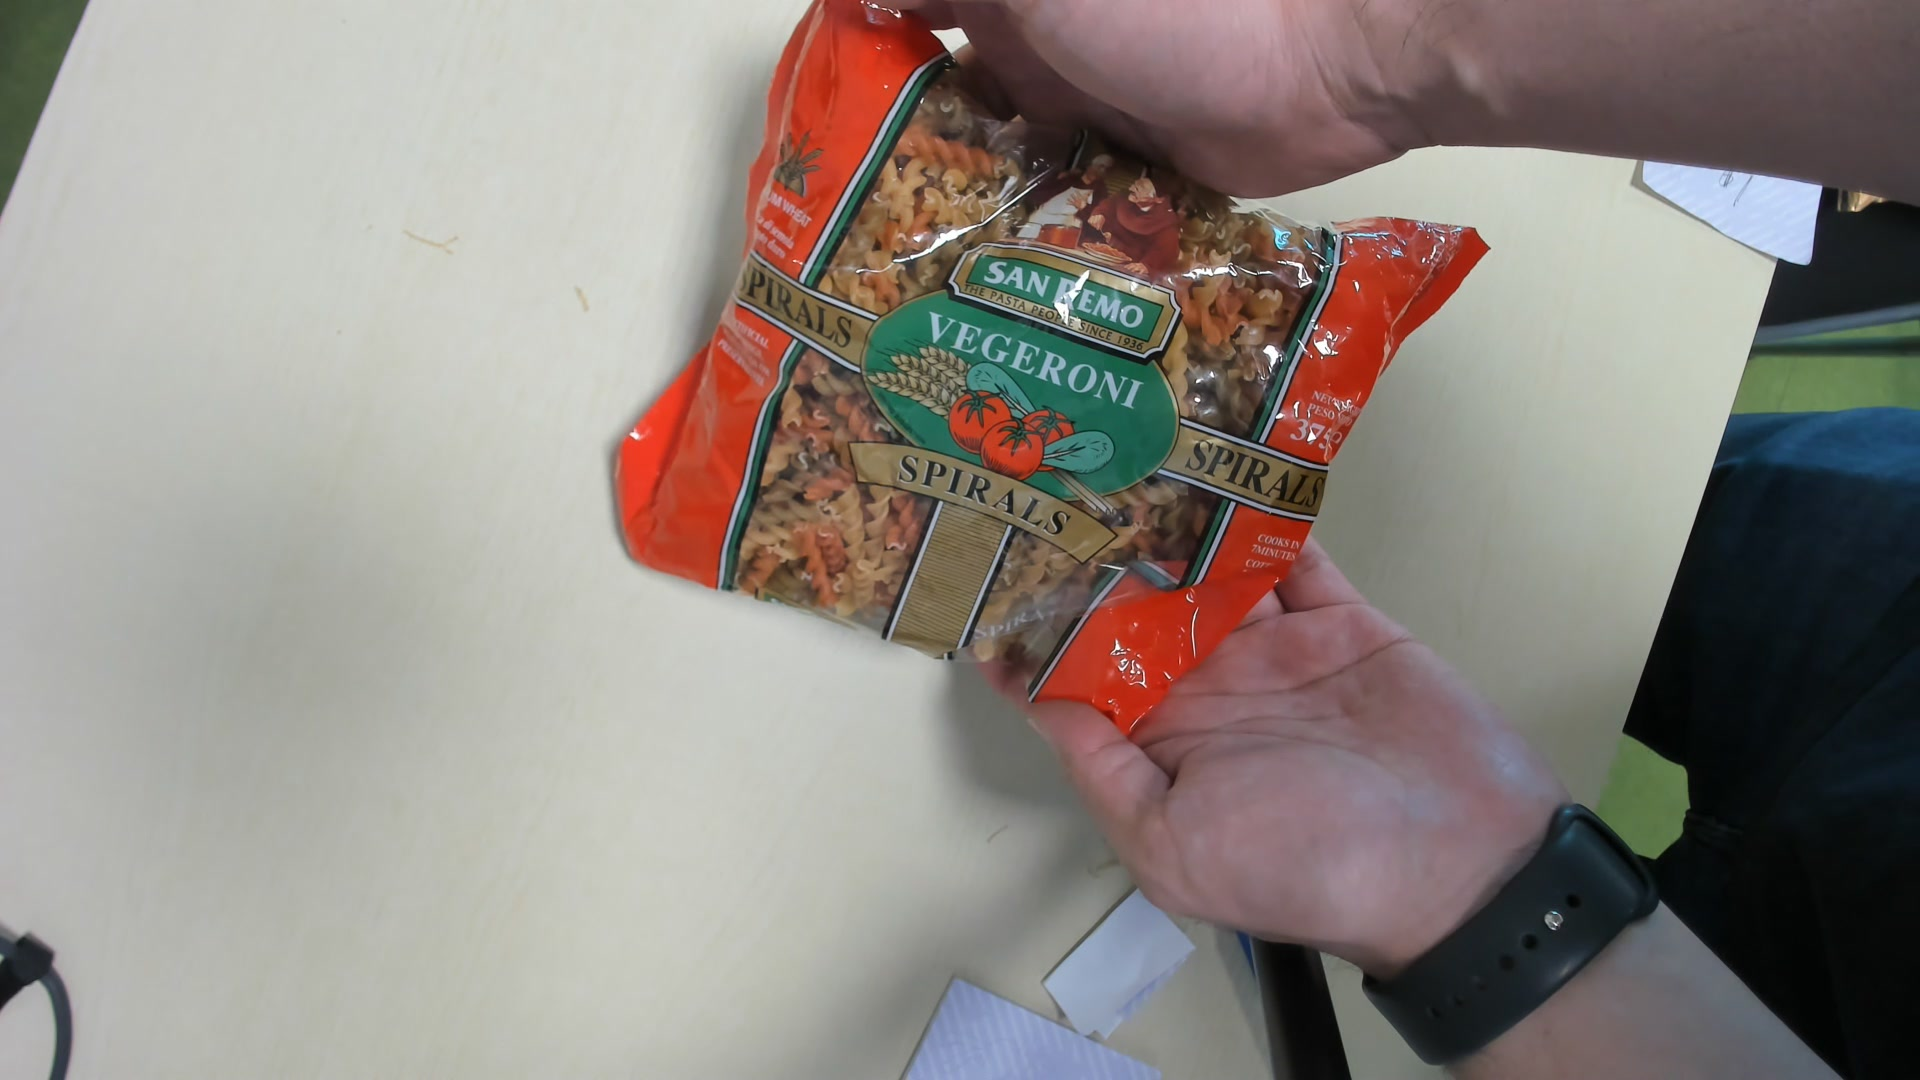Pasta_400-499g_Halal_NonHealthy: (622, 1, 1470, 753)
